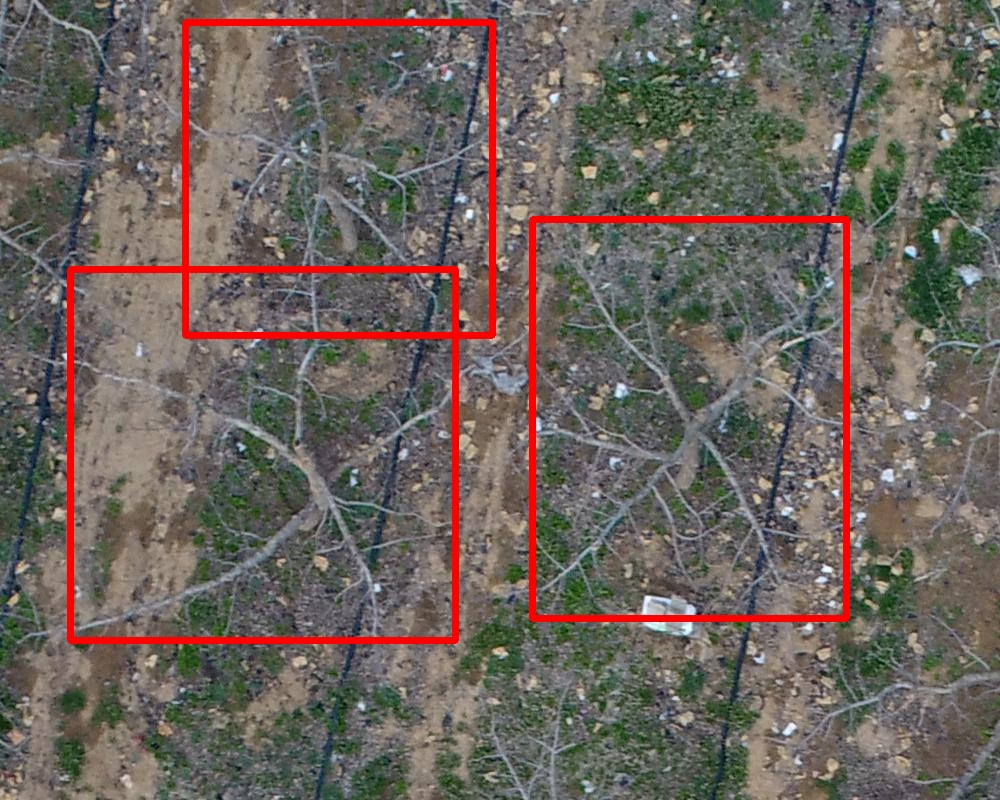apple: (70, 269, 455, 640), (532, 219, 846, 618), (185, 22, 492, 335)
